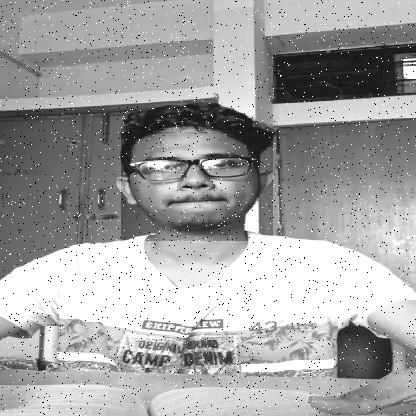Normal: (121, 132, 273, 241)
